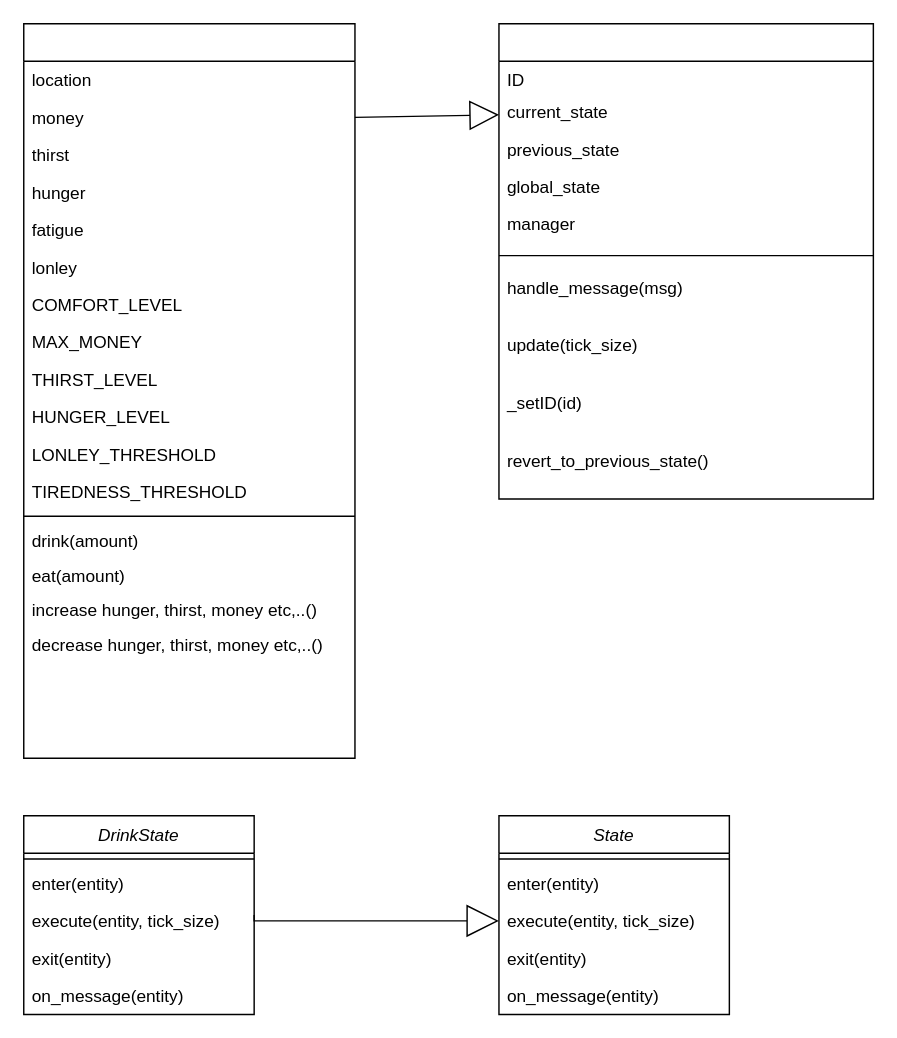
The diagram is 897 pixels wide and 1038 high, and some of its shapes have lost their labels. Here are the shapes that lost their labels. From the top down, the box of each, then its label:
(498, 22, 873, 499): BaseEntity
(22, 22, 355, 758): Agent
